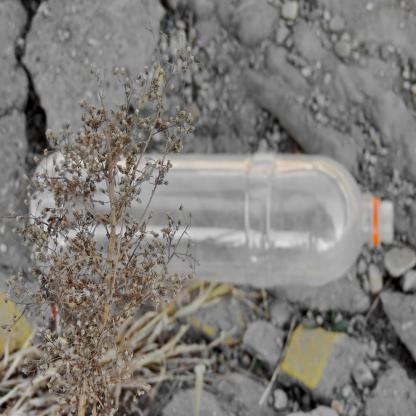bottle: (15, 109, 400, 351)
